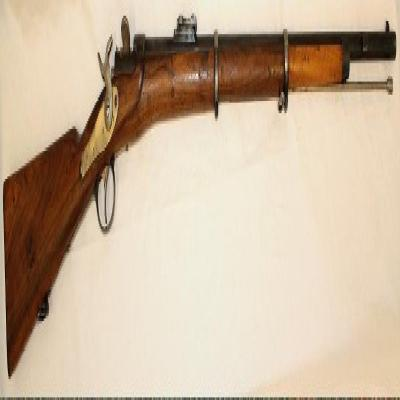weapon: (2, 18, 400, 379)
